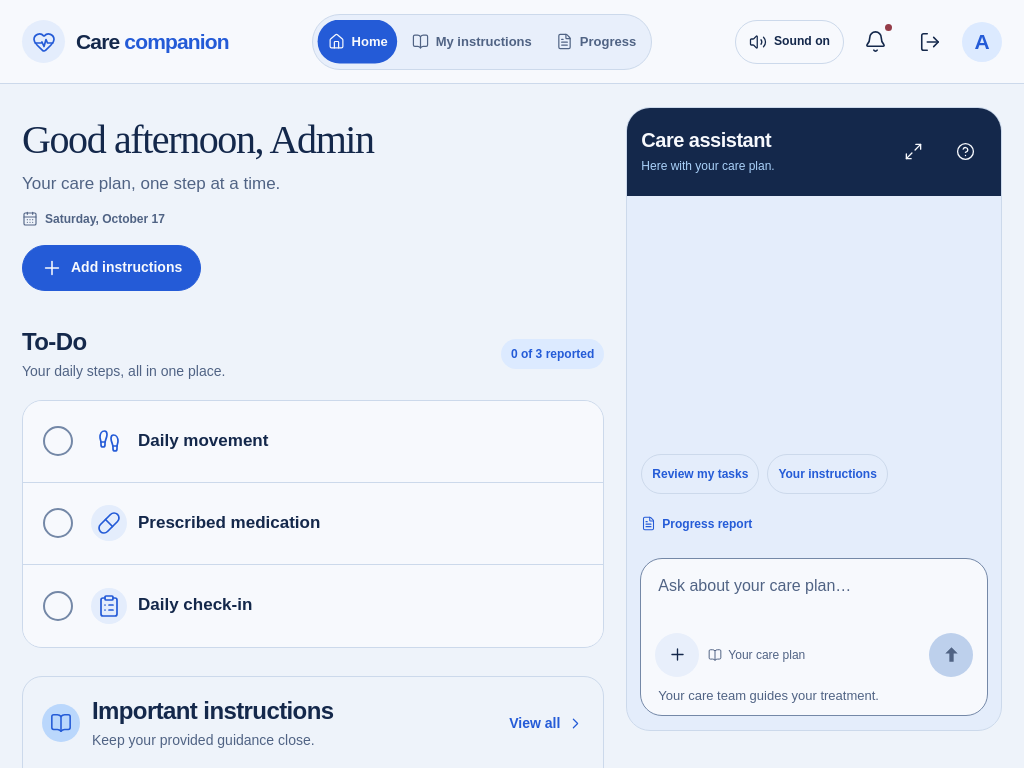
Test case: signing out goes back to the login page
Click the button named "Sign out admin@demo.example.com".
click(930, 42)  # box [908,20,952,64]
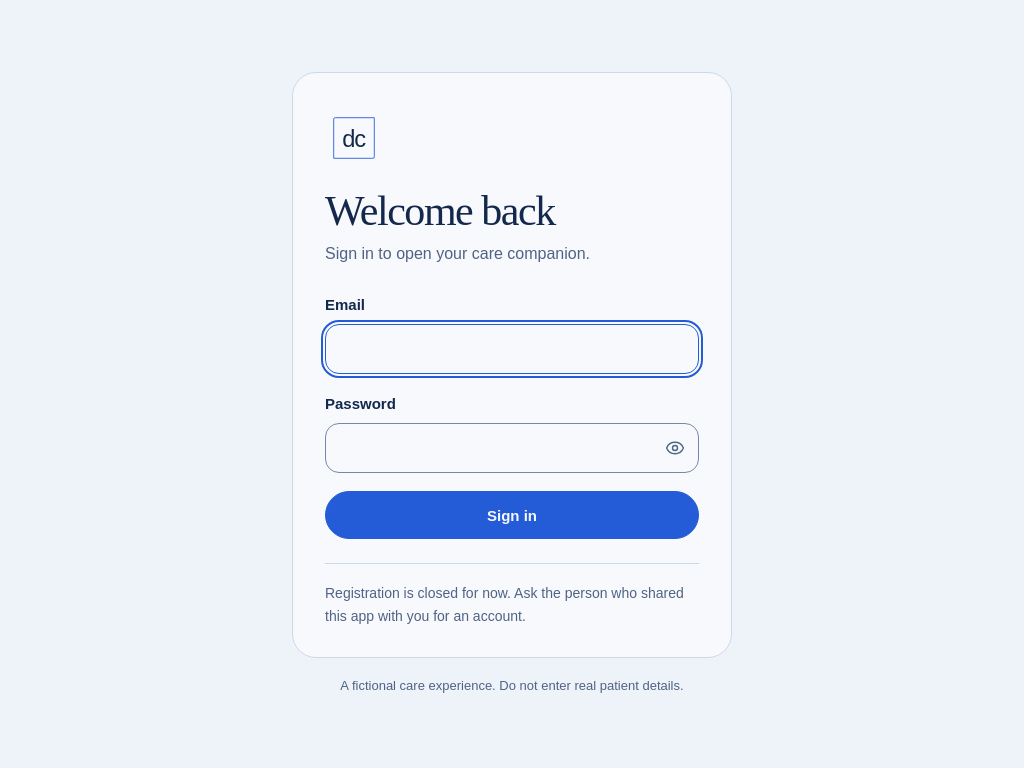
Now the form with class "auth-form" is shown, box [325,293,699,539]
